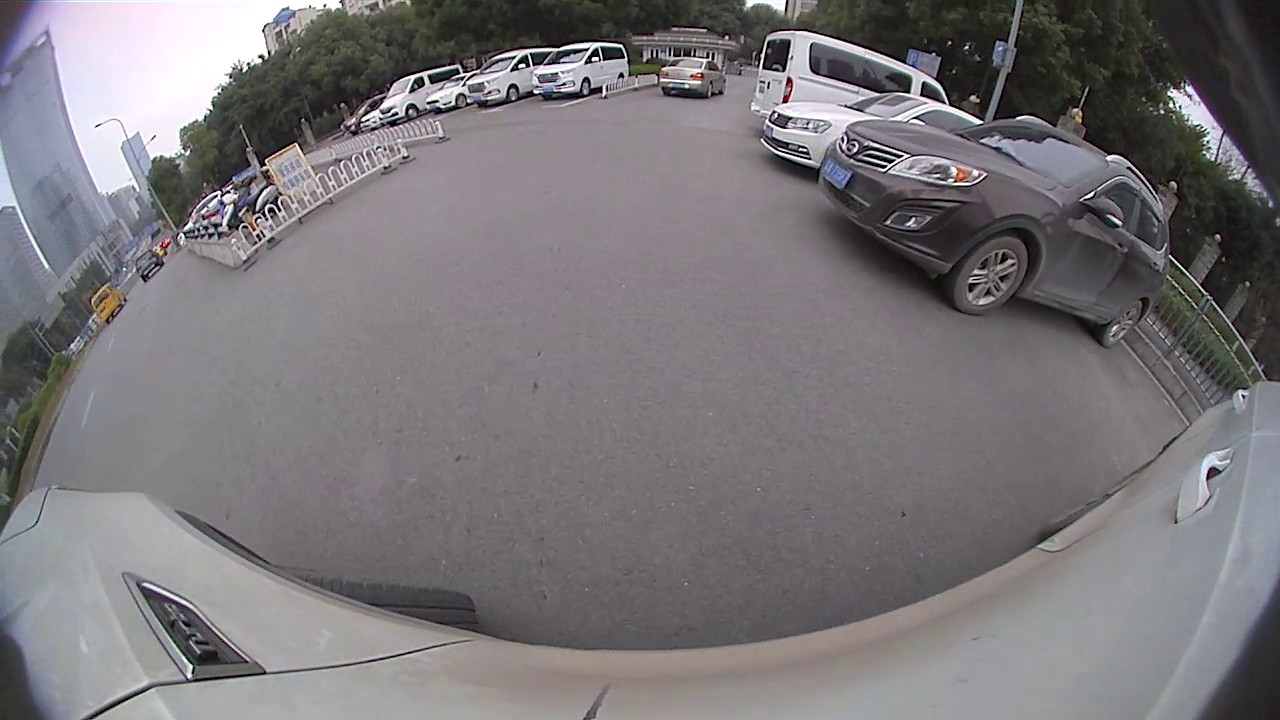car: (815, 112, 1174, 352), (746, 28, 951, 130), (757, 90, 990, 169), (529, 40, 632, 100), (464, 46, 558, 109), (376, 65, 462, 130), (656, 55, 728, 100), (424, 70, 485, 120)
front: (946, 231, 1031, 317), (407, 104, 421, 120), (454, 93, 468, 109), (507, 86, 521, 102), (581, 78, 591, 96)
rear: (1096, 297, 1146, 351), (705, 82, 714, 99)
